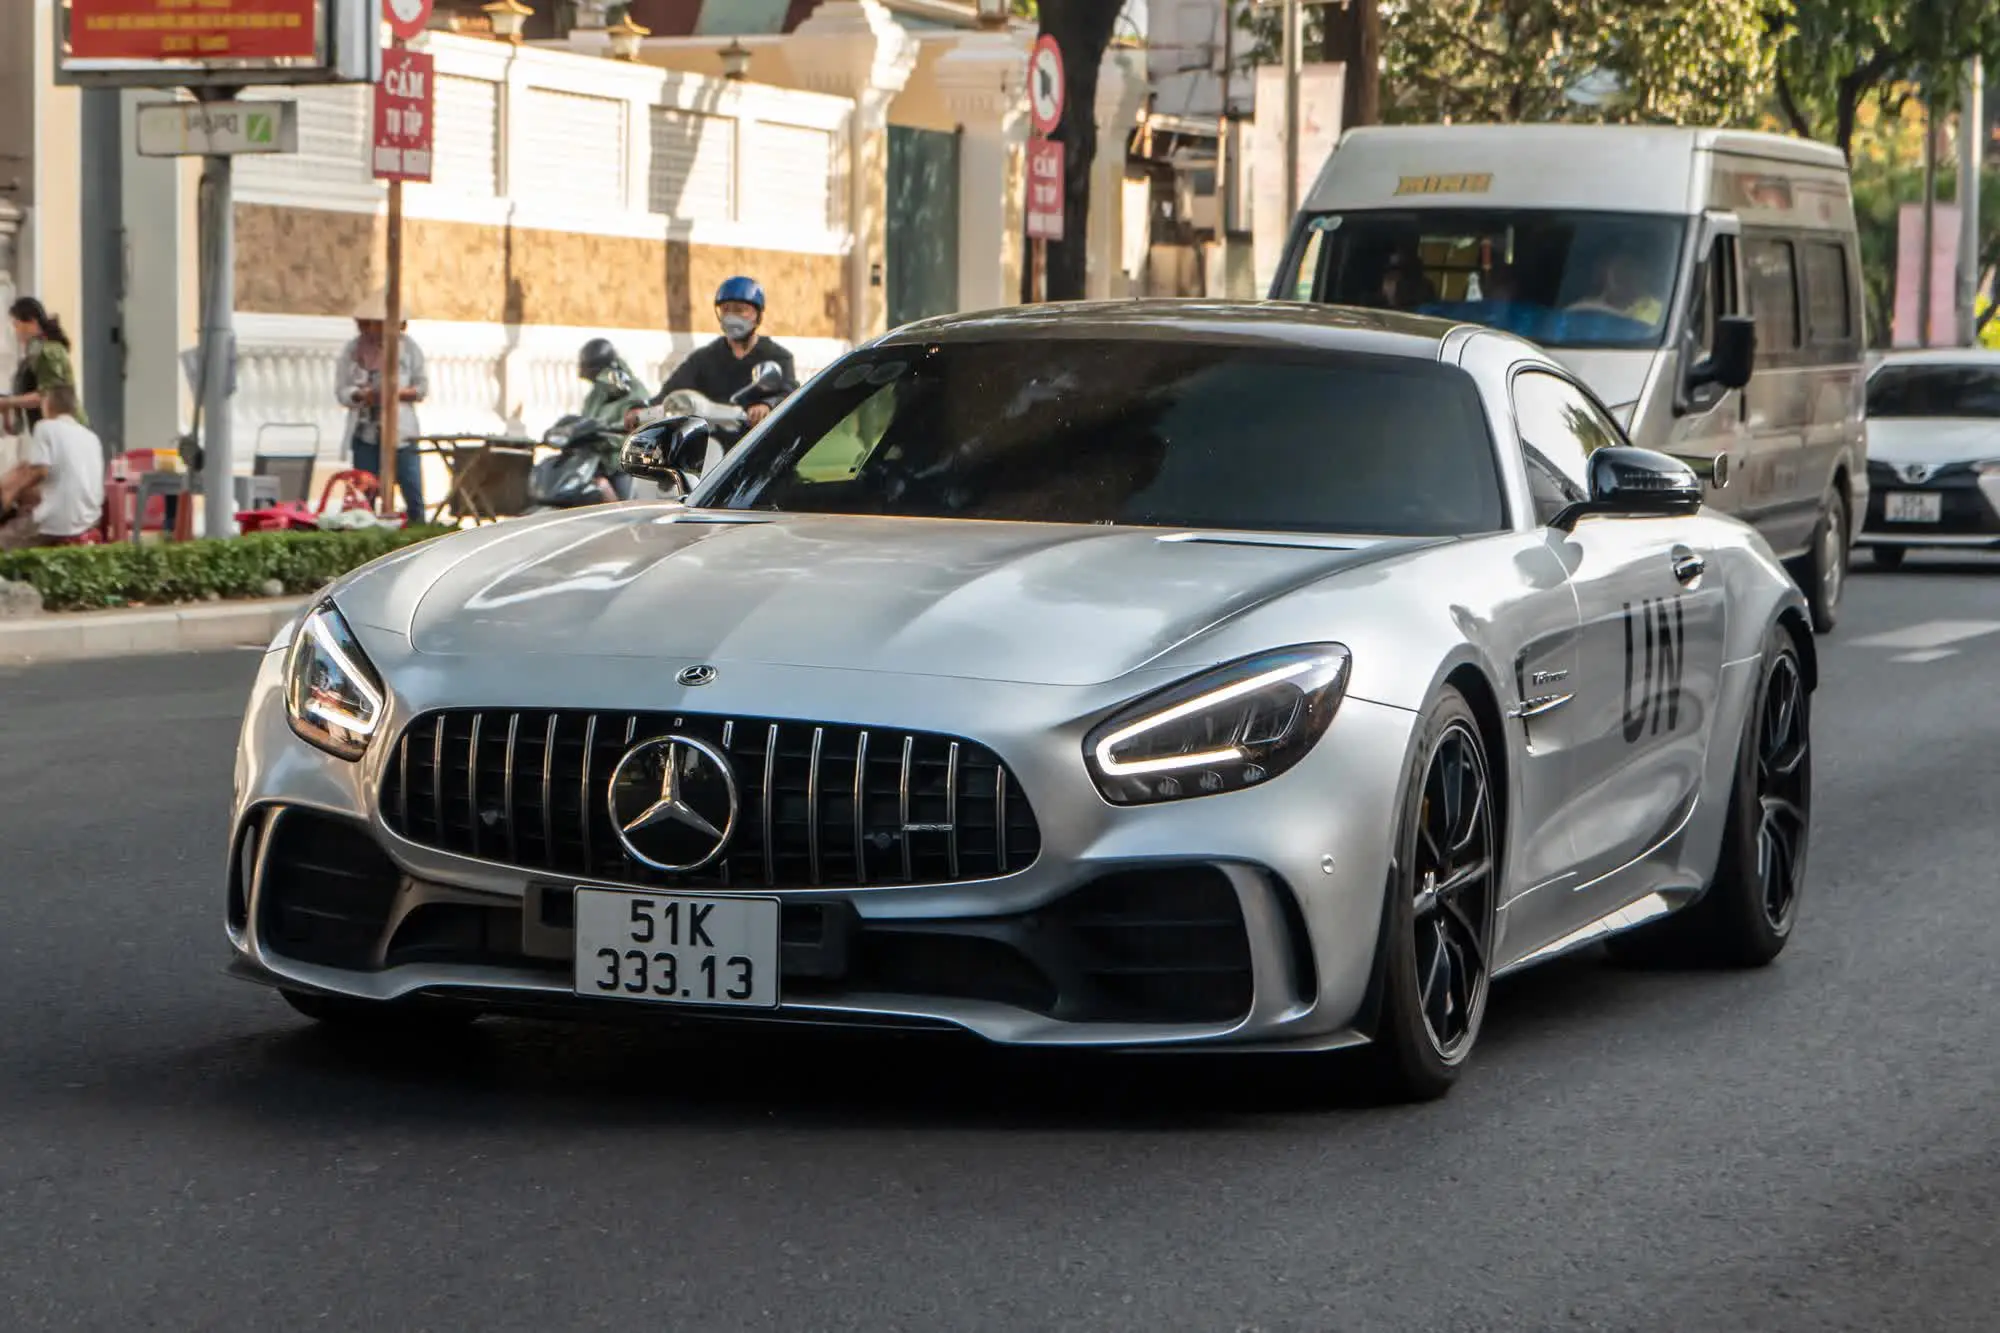number_plate: (568, 885, 789, 1013)
